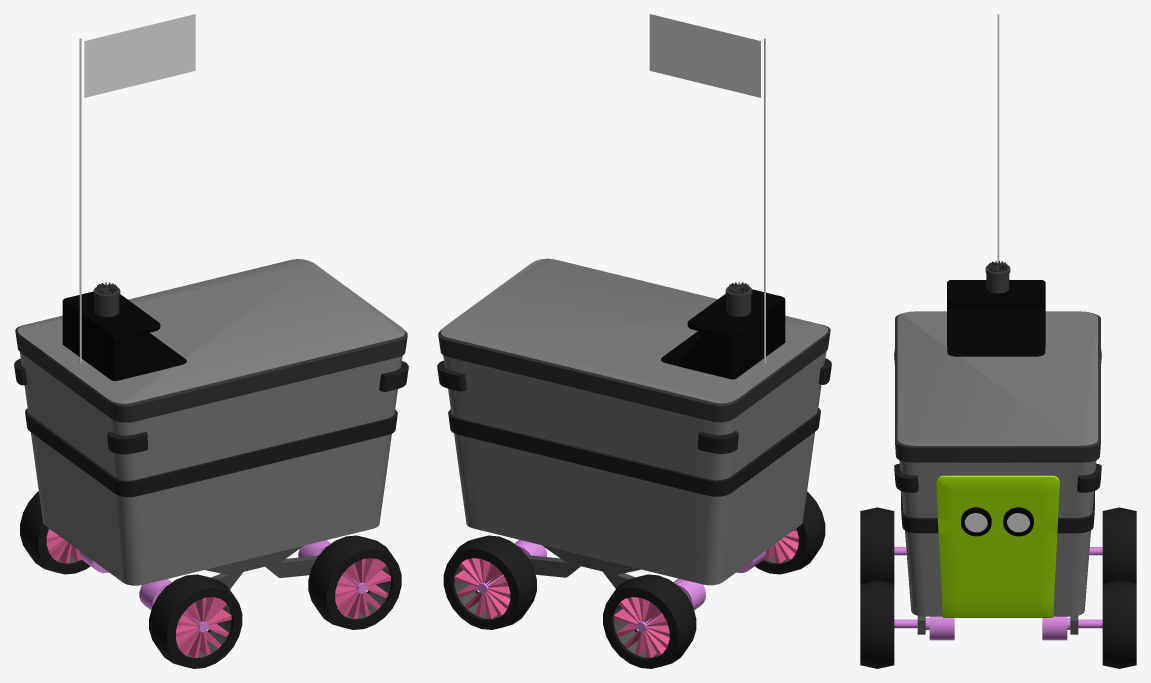
Rendered from DeliveryGuy.fbx.
The picture shows the model from 3 angles, left to right: view 1: azimuth 30°, elevation 25°; view 2: azimuth 150°, elevation 25°; view 3: azimuth 270°, elevation 25°; orthographic projection. The views are drawn at different scales.
Visible parts, largest first — view 1: Body, Wheel_R2, Wheel_R1, Display Frame, Flag, Wheel_L2, WheelFrame, FlagPole, LiDARSensor, WheelAxil_R2; view 2: Body, Wheel_L2, Wheel_L1, Display Frame, Flag, Wheel_R2, WheelFrame, LiDARSensor, WheelAxil_L2, FlagPole; view 3: Body, Display Frame, Wheel_L1, Wheel_R1, Wheel_L2, Wheel_R2, WheelAxil_L1, WheelAxil_R1, FlagPole, Eye_L, Eye_R, LiDARSensor.
Boxes of the visible parts, x1=… form: Body: x1=14, y1=259, x2=408, y2=585; Wheel_R2: x1=149, y1=574, x2=242, y2=668; Wheel_R1: x1=308, y1=535, x2=401, y2=629; Display Frame: x1=62, y1=291, x2=186, y2=380; Flag: x1=84, y1=14, x2=195, y2=97; Wheel_L2: x1=20, y1=491, x2=90, y2=574; WheelFrame: x1=205, y1=545, x2=318, y2=589; FlagPole: x1=79, y1=38, x2=81, y2=363; LiDARSensor: x1=93, y1=282, x2=120, y2=317; WheelAxil_R2: x1=139, y1=579, x2=208, y2=632; Body: x1=437, y1=258, x2=831, y2=585; Wheel_L2: x1=603, y1=574, x2=696, y2=668; Wheel_L1: x1=443, y1=535, x2=536, y2=629; Display Frame: x1=661, y1=289, x2=785, y2=379; Flag: x1=649, y1=14, x2=760, y2=97; Wheel_R2: x1=755, y1=491, x2=825, y2=574; WheelFrame: x1=526, y1=545, x2=640, y2=588; LiDARSensor: x1=725, y1=282, x2=752, y2=316; WheelAxil_L2: x1=636, y1=578, x2=705, y2=632; FlagPole: x1=764, y1=38, x2=765, y2=363; Body: x1=894, y1=311, x2=1101, y2=617; Display Frame: x1=947, y1=280, x2=1045, y2=356; Wheel_L1: x1=1102, y1=580, x2=1136, y2=668; Wheel_R1: x1=860, y1=580, x2=894, y2=668; Wheel_L2: x1=1102, y1=507, x2=1136, y2=583; Wheel_R2: x1=860, y1=507, x2=894, y2=583; WheelAxil_L1: x1=1042, y1=616, x2=1102, y2=640; WheelAxil_R1: x1=894, y1=616, x2=954, y2=640; FlagPole: x1=997, y1=14, x2=999, y2=262; Eye_L: x1=1003, y1=507, x2=1033, y2=536; Eye_R: x1=961, y1=507, x2=991, y2=536; LiDARSensor: x1=985, y1=261, x2=1010, y2=293.
Size of the model in its own units: 234 by 444 by 200.
